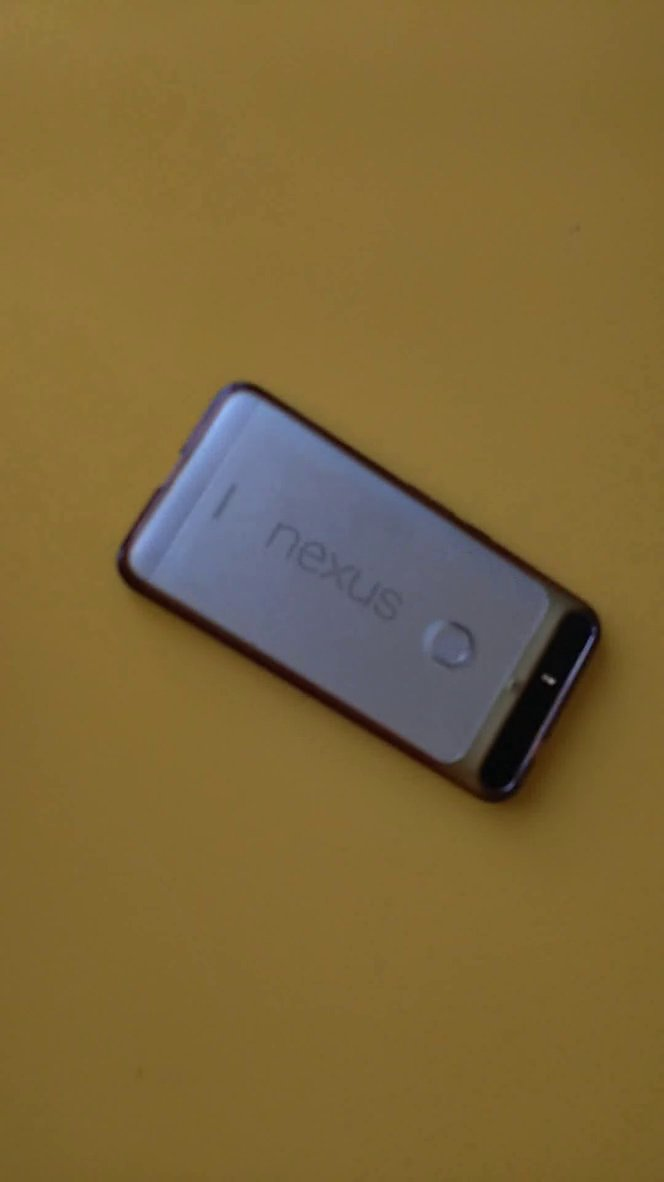phone: (96, 372, 632, 818)
